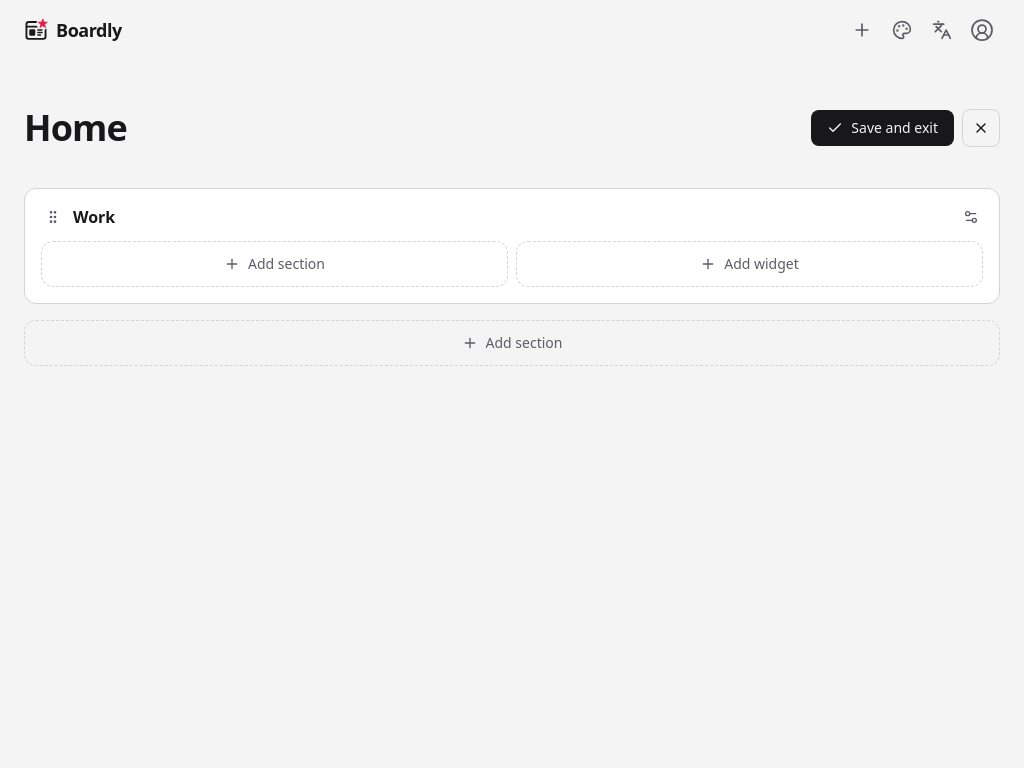
Test: section dialog › keeps the section when deleting is cancelled
The image size is (1024, 768).
Expected: the button "Save and exit" is shown, top-left (811, 110), bottom-right (954, 146)
Click the button named "Edit Work" at (971, 217), box top-left (959, 205), bottom-right (983, 229)
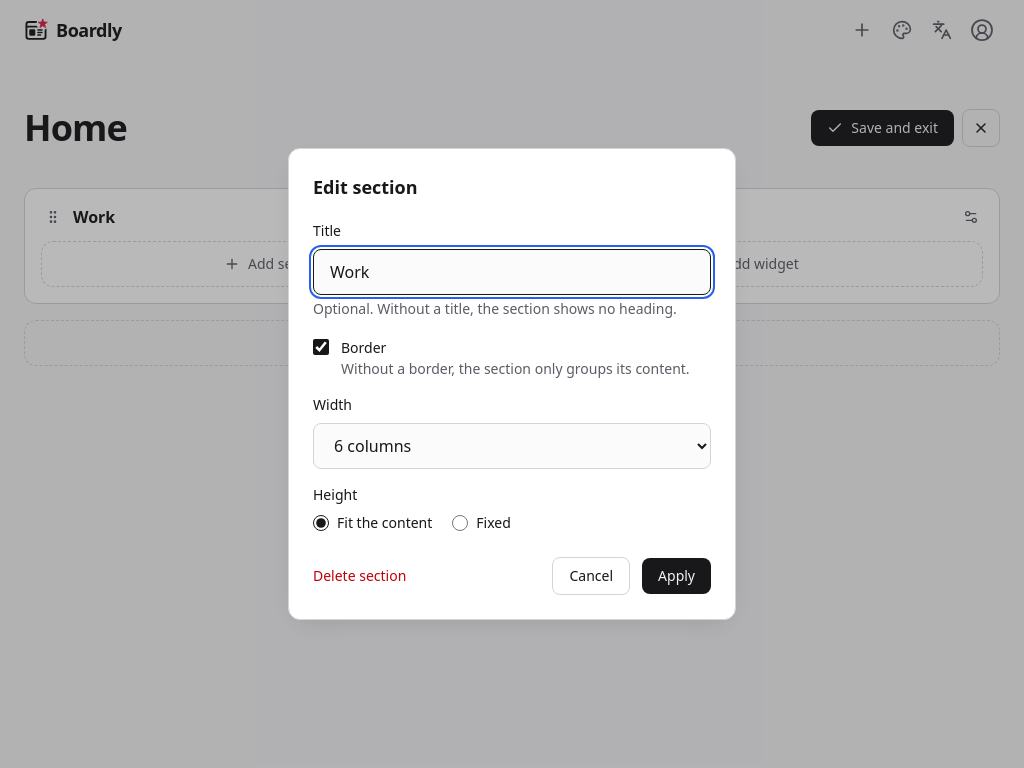
Click the button "Delete section" at (360, 576), box top-left (313, 566), bottom-right (406, 586)
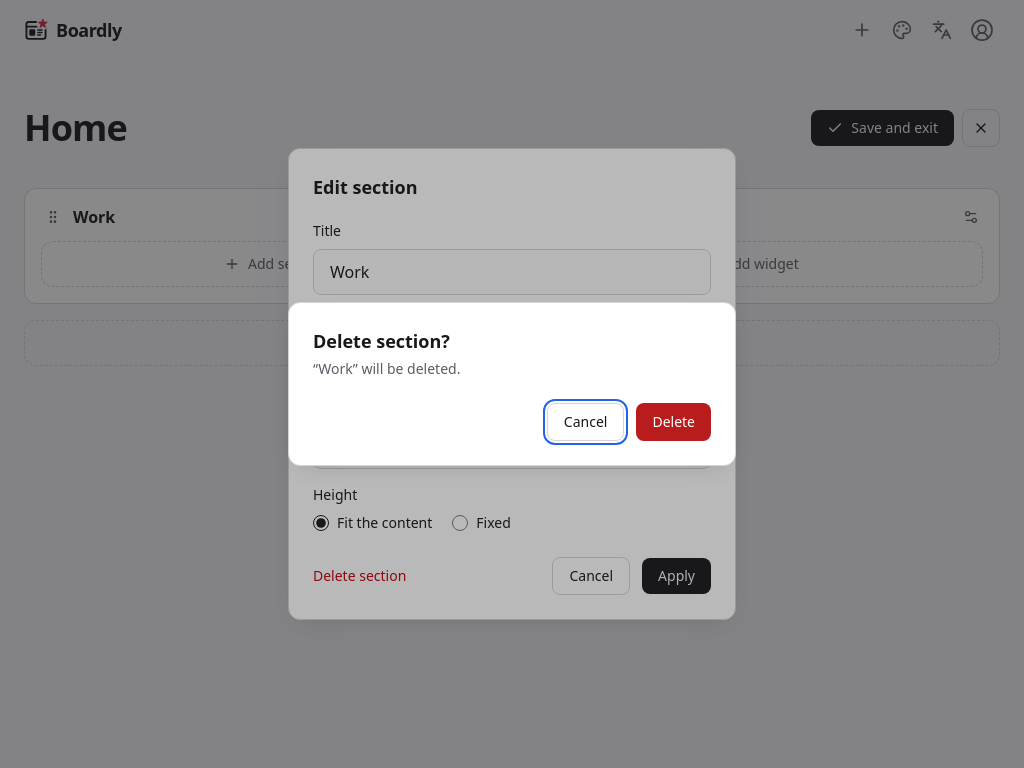
Now the dialog shows "“Work” will be deleted.", box top-left (313, 359), bottom-right (460, 378)
Click the button "Cancel" at (586, 422), box top-left (547, 403), bottom-right (624, 441)
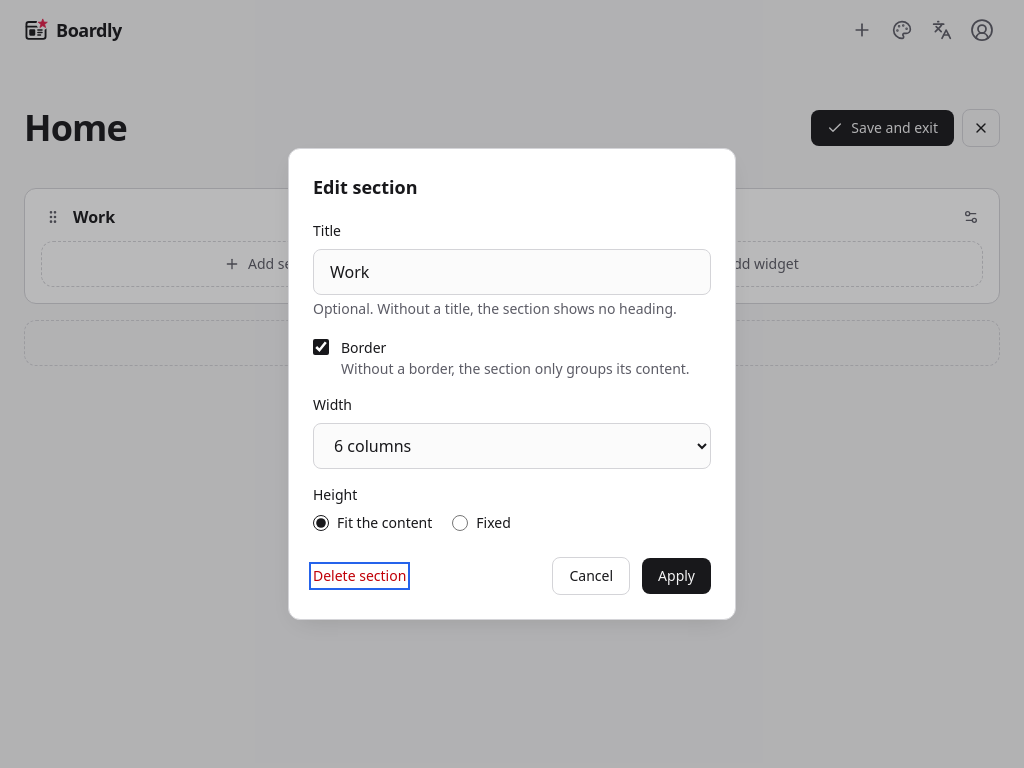
Expected: the element with test id "section-Work" is shown, top-left (24, 188), bottom-right (1000, 304)
Now the dialog "Delete section? “Work” will be deleted. Cancel Delete" is gone
